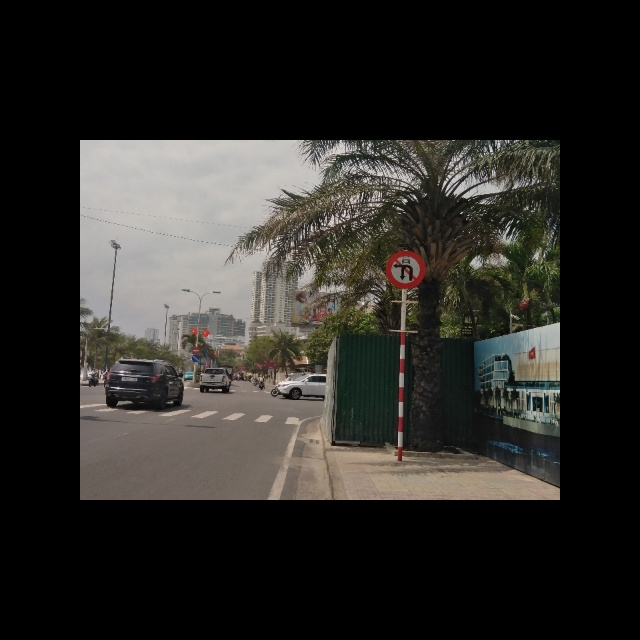Cấm xe ô tô quay đầu và rẽ trái: (386, 251, 428, 290)
